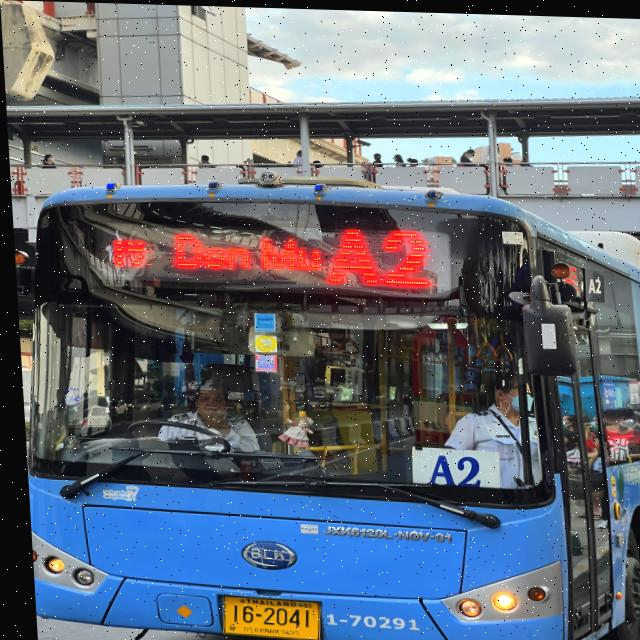BMTA-bus: (8, 164, 640, 640)
Bus-Line-Number: (314, 217, 445, 294)
Destination-Sign-Normal: (406, 443, 495, 487)
